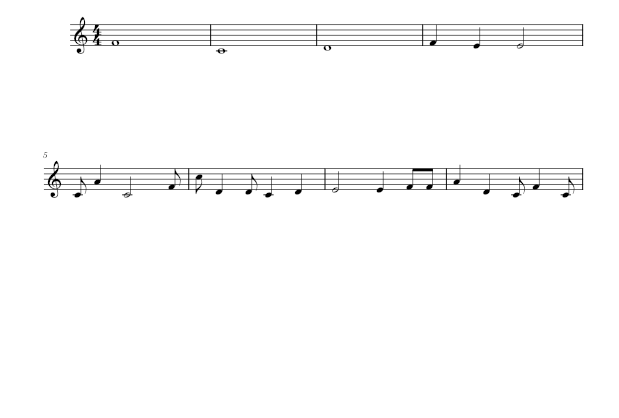Treble Clef: (69, 13, 92, 61), (43, 159, 66, 199)
